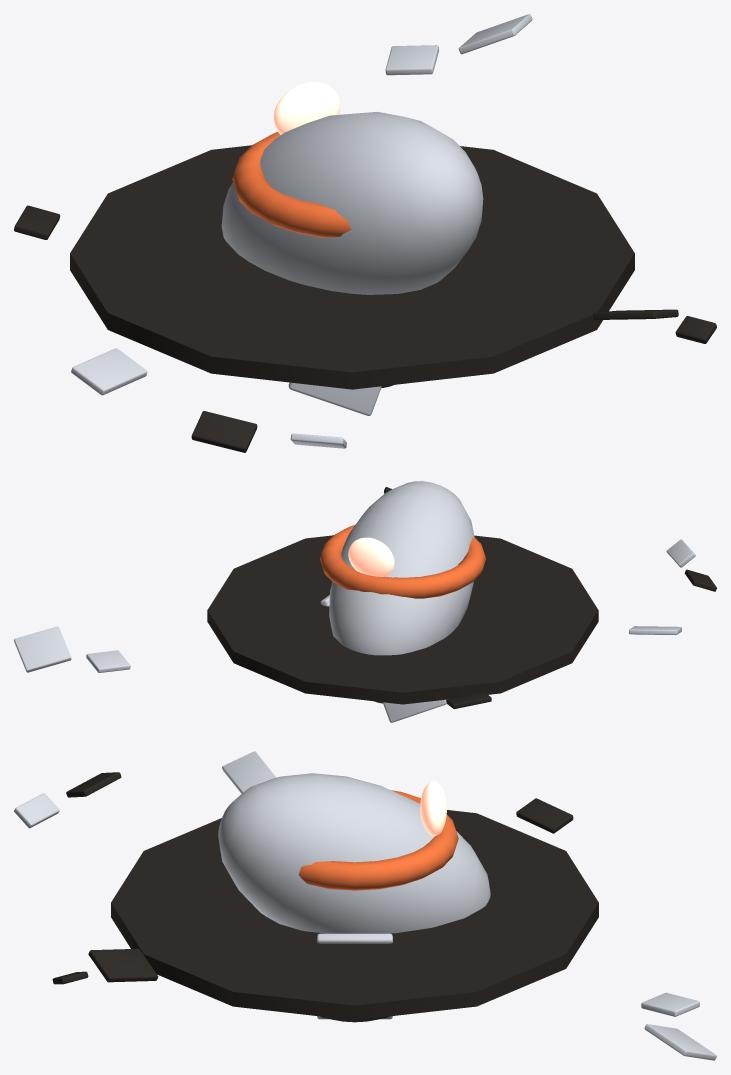
Rendered from poi_crash.glb.
3 views of the same model, one above another, from view 1: azimuth 30°, elevation 25°; view 2: azimuth 150°, elevation 25°; view 3: azimuth 270°, elevation 25° (orthographic). The views are drawn at different scales.
Visible parts, largest first — view 1: Crater, Pod, Band, Window, Debris1, Debris6, Fin2, Debris7, Debris5, Debris0, Debris2, Debris4; view 2: Crater, Pod, Band, Debris5, Window, Fin1, Debris7, Debris0, Debris3, Debris1, Debris6; view 3: Crater, Pod, Band, Debris4, Debris1, Window, Debris0, Debris5, Debris7, Debris3, Fin0, Debris6.
Part boxes in pixels (left/top/right/bottom): Crater: left=70, top=145, right=634, bottom=389; Pod: left=221, top=111, right=483, bottom=294; Band: left=232, top=132, right=351, bottom=237; Window: left=273, top=82, right=340, bottom=134; Debris1: left=71, top=348, right=147, bottom=395; Debris6: left=191, top=411, right=257, bottom=452; Fin2: left=288, top=382, right=381, bottom=415; Debris7: left=385, top=45, right=438, bottom=75; Debris5: left=458, top=14, right=532, bottom=54; Debris0: left=14, top=205, right=60, bottom=239; Debris2: left=675, top=316, right=716, bottom=343; Debris4: left=593, top=309, right=678, bottom=319; Crater: left=207, top=535, right=598, bottom=704; Pod: left=329, top=481, right=474, bottom=655; Band: left=320, top=524, right=485, bottom=598; Debris5: left=14, top=626, right=71, bottom=672; Window: left=348, top=537, right=394, bottom=576; Fin1: left=382, top=699, right=446, bottom=722; Debris7: left=86, top=650, right=130, bottom=672; Debris0: left=446, top=692, right=491, bottom=709; Debris3: left=666, top=539, right=695, bottom=567; Debris1: left=629, top=626, right=681, bottom=635; Debris6: left=684, top=569, right=716, bottom=591; Crater: left=111, top=810, right=598, bottom=1020; Pod: left=218, top=773, right=490, bottom=933; Band: left=299, top=790, right=458, bottom=890; Debris4: left=88, top=948, right=158, bottom=982; Debris1: left=222, top=751, right=276, bottom=793; Window: left=420, top=781, right=446, bottom=836; Debris0: left=516, top=798, right=573, bottom=833; Debris5: left=644, top=1024, right=716, bottom=1060; Debris7: left=641, top=992, right=699, bottom=1016; Debris3: left=14, top=793, right=59, bottom=828; Fin0: left=317, top=933, right=392, bottom=1019; Debris6: left=66, top=772, right=121, bottom=797.
Bounding box in the file's own units: 13.05 × 4.77 × 12.97.
